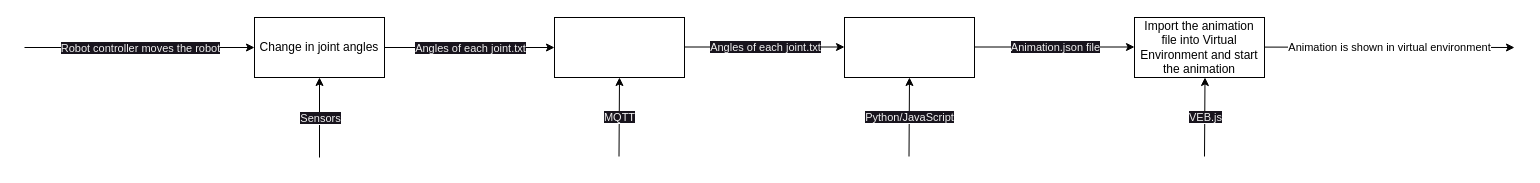
Some shapes in this 1540 by 183 pixel diagram are drawn without their labels. Here are the shapes that lost their labels. From the top down, the centre of each, then its label:
At (x=619, y=47): "Sends messages to subscriber".
At (x=909, y=47): "Create animation file according to described animation.json format".
